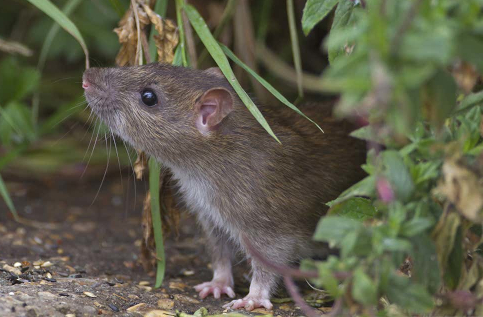rat: (77, 59, 293, 312)
